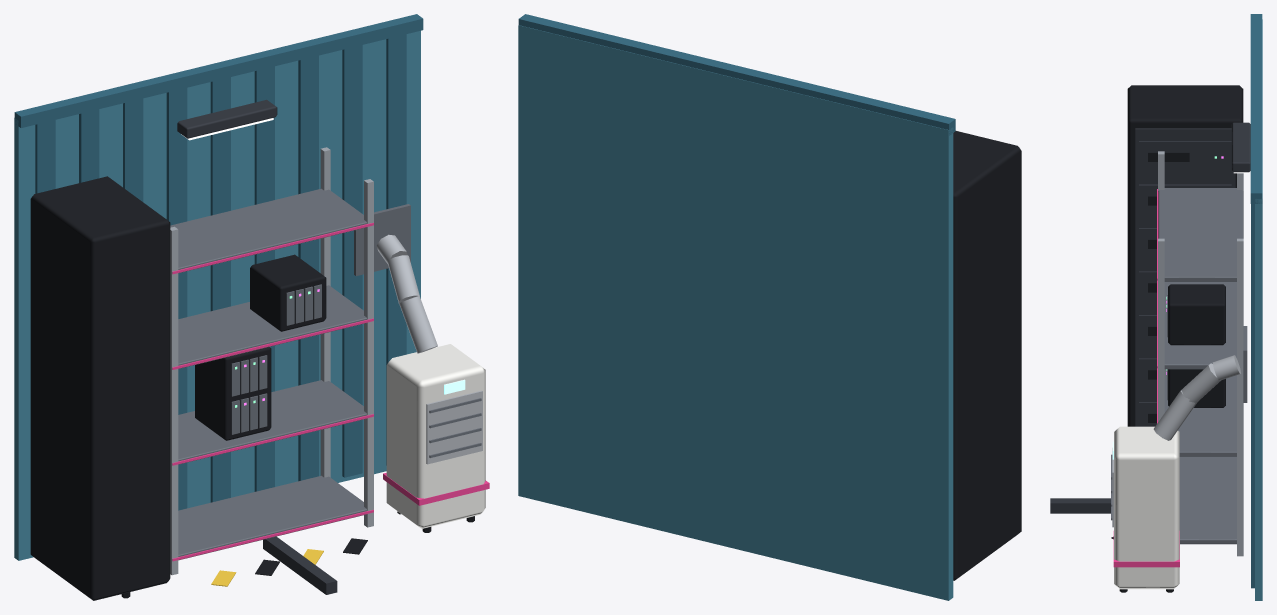
File: station_transport_2.glb
3 renders of one model, left to right at view 1: azimuth 30°, elevation 25°; view 2: azimuth 150°, elevation 25°; view 3: azimuth 270°, elevation 25°, orthographic. The views are drawn at different scales.
Visible parts, largest first — view 1: station_transport_2; view 2: station_transport_2; view 3: station_transport_2.
Part boxes in pixels (x1,y1,x2,y2): station_transport_2: [14, 14, 489, 600]; station_transport_2: [518, 14, 1021, 600]; station_transport_2: [1050, 14, 1262, 600].
Bounding box in the file's own units: 2.2 × 2.33 × 1.1.
